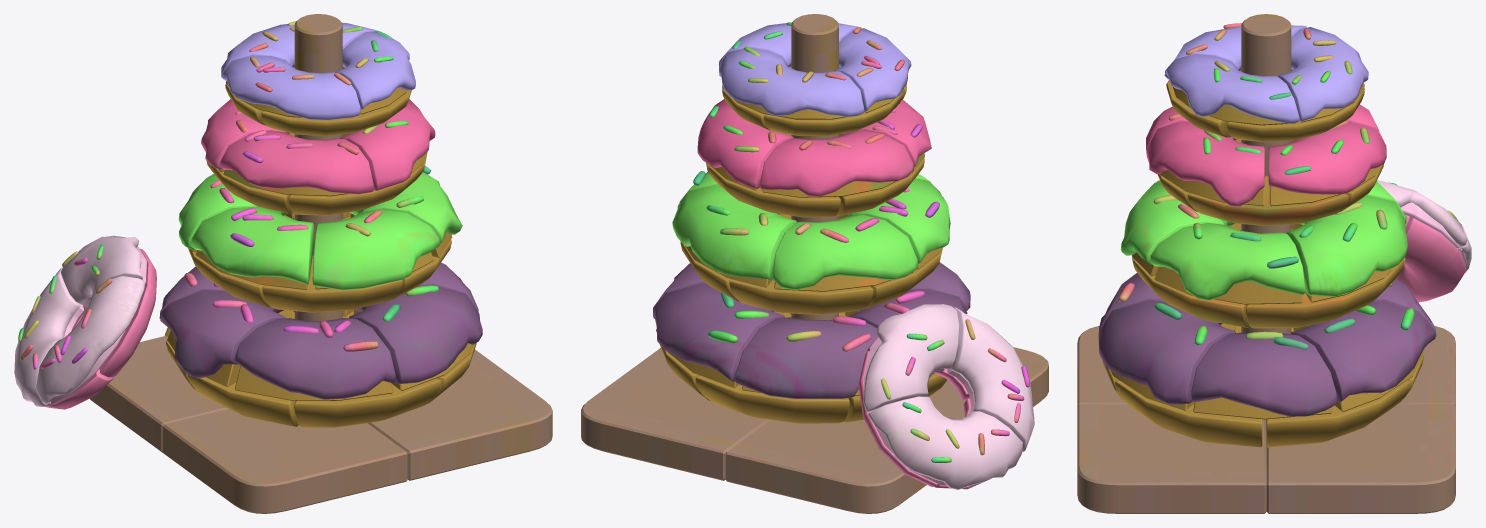
File: level_176.fbx
3 renders of one model, left to right at view 1: azimuth 30°, elevation 25°; view 2: azimuth 150°, elevation 25°; view 3: azimuth 270°, elevation 25°, orthographic. The views are drawn at different scales.
Parts seen in each view (by area): view 1: Cube_L6_4, Cube_L6, Cube_L4_7, Cube_L4_4, Cube_L3_4, Cube_L2_5, Cube_L3_8, Cube_L6_3, Cube_L4_11, Cube_L5_4, Cube_L1_5, Cube_L1_1 (+20 smaller); view 2: Cube_L6_1, Cube_L6_3, Cube_L4_8, Cube_L5_3, Cube_L3_7, Cube_L2_6, Cube_L3_3, Cube_L4_3, Cube_L5, Cube_L1_2, Cube_L5_4, Cube_L2_2 (+20 smaller); view 3: Cube_L6_1, Cube_L6, Cube_L4, Cube_L3, Cube_L4_4, Cube_L4_3, Cube_L3_3, Cube_L2_2, Cube_L2_1, Cube_L1_1, Cube_L1_2, Cube_L6_2 (+18 smaller).
Boxes of the visible parts, box(x1,y1,x2,y2) form: Cube_L6_4: box(163, 409, 407, 513); Cube_L6: box(367, 349, 552, 480); Cube_L4_7: box(234, 318, 395, 400); Cube_L4_4: box(349, 285, 482, 390); Cube_L3_4: box(312, 209, 439, 290); Cube_L2_5: box(220, 130, 373, 196); Cube_L3_8: box(191, 206, 314, 289); Cube_L6_3: box(90, 336, 227, 452); Cube_L4_11: box(160, 290, 285, 386); Cube_L5_4: box(36, 276, 144, 404); Cube_L1_5: box(222, 55, 360, 120); Cube_L1_1: box(335, 30, 415, 114); Cube_L6_1: box(581, 349, 770, 480); Cube_L6_3: box(725, 420, 926, 513); Cube_L4_8: box(735, 316, 877, 398); Cube_L5_3: box(868, 396, 1022, 489); Cube_L3_7: box(772, 215, 918, 291); Cube_L2_6: box(760, 130, 913, 197); Cube_L3_3: box(672, 185, 796, 287); Cube_L4_3: box(653, 283, 784, 387); Cube_L5: box(863, 304, 959, 412); Cube_L1_2: box(719, 46, 864, 119); Cube_L5_4: box(947, 307, 1034, 452); Cube_L2_2: box(697, 99, 793, 190); Cube_L6_1: box(1266, 404, 1455, 513); Cube_L6: box(1077, 404, 1266, 513); Cube_L4: box(1191, 331, 1336, 419); Cube_L3: box(1150, 222, 1305, 304); Cube_L4_4: box(1098, 300, 1235, 410); Cube_L4_3: box(1291, 301, 1435, 411); Cube_L3_3: box(1286, 195, 1407, 302); Cube_L2_2: box(1268, 120, 1386, 206); Cube_L2_1: box(1146, 121, 1264, 206); Cube_L1_1: box(1165, 54, 1299, 125); Cube_L1_2: box(1278, 27, 1368, 122); Cube_L6_2: box(1241, 14, 1291, 334).
Bounding box in the file's own units: 14.75 × 13.86 × 11.92.
